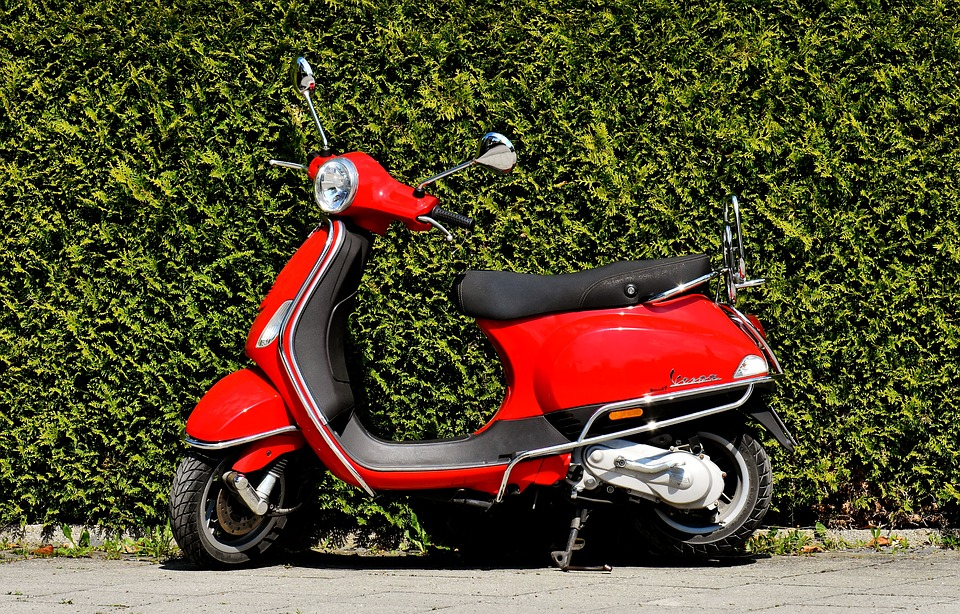motorcycle: (173, 142, 791, 571)
